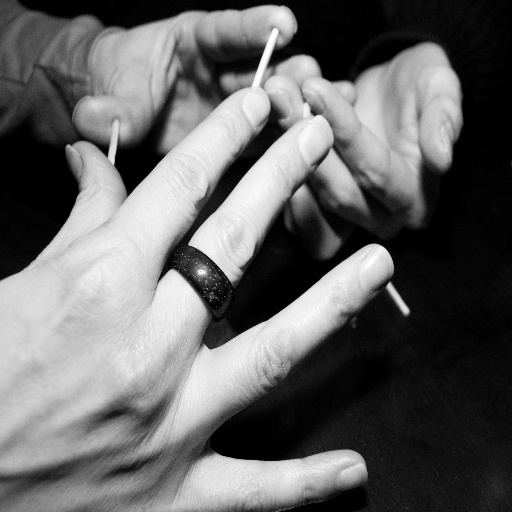hand: (0, 86, 394, 511), (261, 40, 463, 261), (70, 5, 297, 155)
